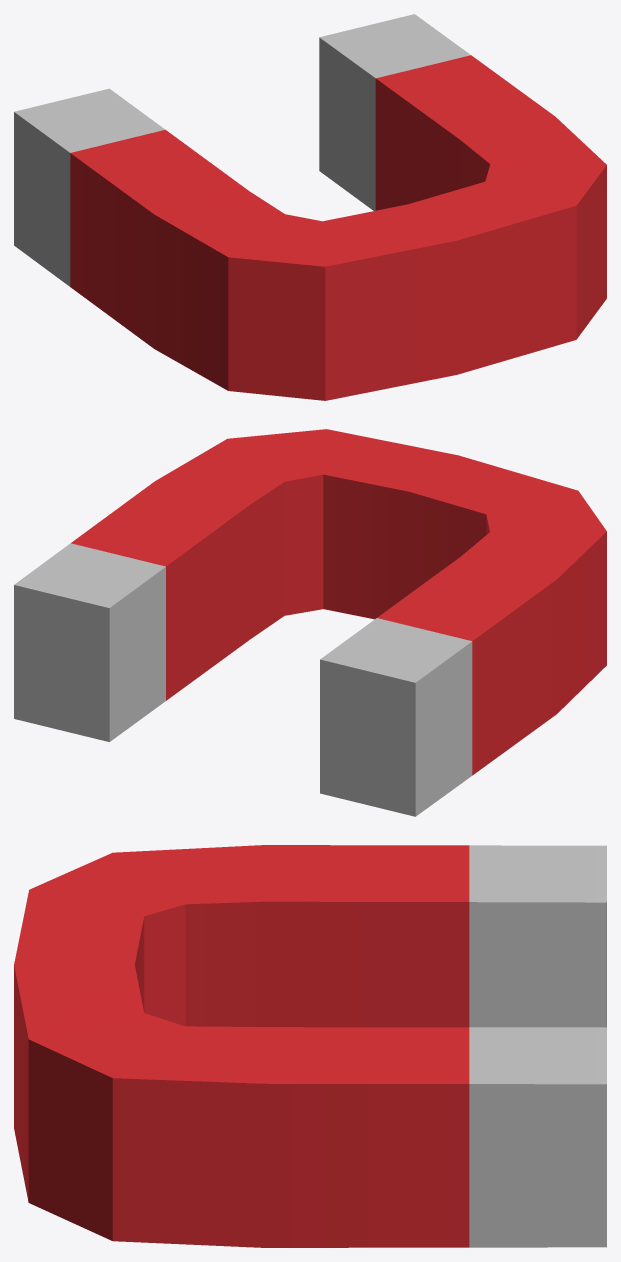
File: Head 07.FBX
3 views of the same model, one above another, from view 1: azimuth 30°, elevation 25°; view 2: azimuth 150°, elevation 25°; view 3: azimuth 270°, elevation 25° (orthographic). The views are drawn at different scales.
Visible parts, largest first — view 1: Head 07; view 2: Head 07; view 3: Head 07.
Boxes of the visible parts, <box> form: Head 07: <box>14,14,606,400</box>; Head 07: <box>14,429,606,816</box>; Head 07: <box>14,845,606,1247</box>.
Bounding box in the file's own units: 73.41 × 23.53 × 77.04.
Materials: 1 (1 with a texture image).
